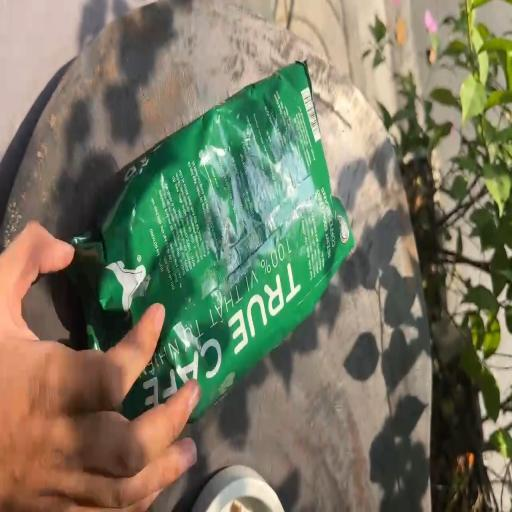cafe_xay: (68, 62, 354, 419)
